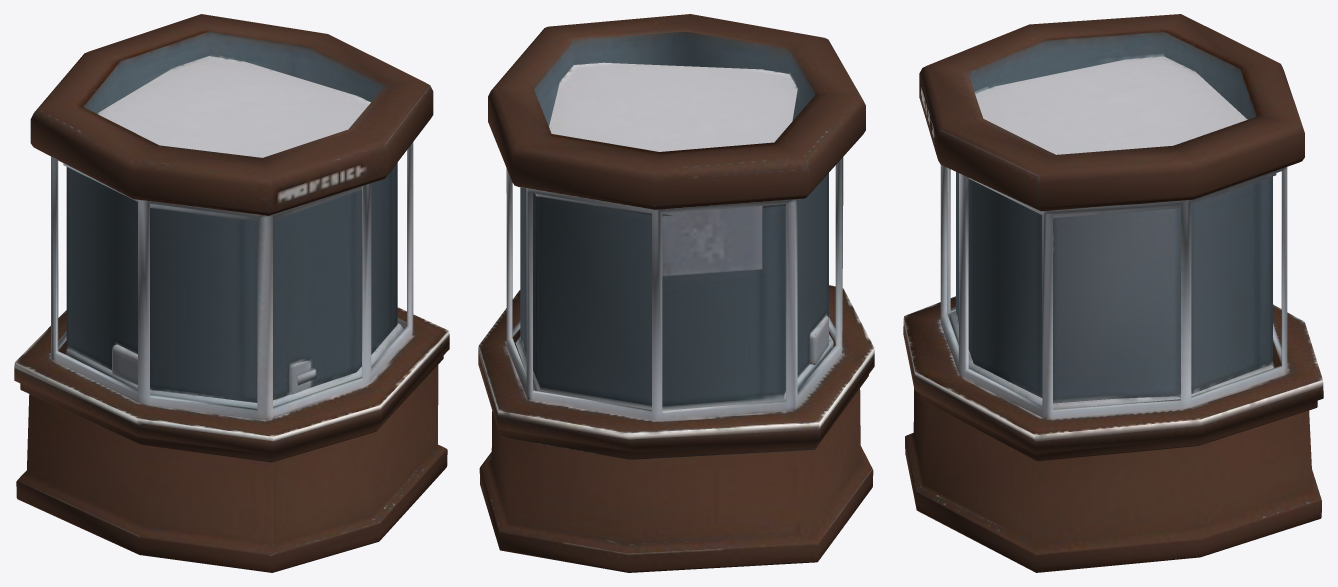
Rendered from Bank_TellerCounter.glb.
The picture shows the model from 3 angles, left to right: view 1: azimuth 30°, elevation 25°; view 2: azimuth 150°, elevation 25°; view 3: azimuth 270°, elevation 25°; orthographic projection. The views are drawn at different scales.
Parts seen in each view (by area): view 1: tripo_node_cd4a241a-22b6-4b2b-a7cc-74a81798644d; view 2: tripo_node_cd4a241a-22b6-4b2b-a7cc-74a81798644d; view 3: tripo_node_cd4a241a-22b6-4b2b-a7cc-74a81798644d.
Boxes of the visible parts, bbox=[...] form: tripo_node_cd4a241a-22b6-4b2b-a7cc-74a81798644d: bbox=[14, 14, 449, 572]; tripo_node_cd4a241a-22b6-4b2b-a7cc-74a81798644d: bbox=[478, 14, 874, 572]; tripo_node_cd4a241a-22b6-4b2b-a7cc-74a81798644d: bbox=[903, 14, 1323, 572].
Size of the model in its own units: 0.9697 by 1 by 0.9697.
Materials: 1 (1 with a texture image).
